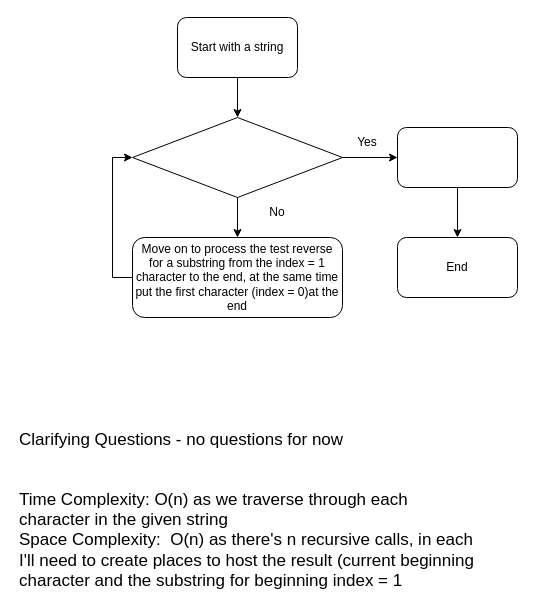
Image size: 535x608. Some labels were removed from this diagram. The shapes that lost their labels are listed below. From the top down, each one's box as (x1, y1, x2, y2) in pixels, then its label:
(132, 116, 342, 198): Is the string empty or just have one character?
(396, 126, 518, 188): Return the string
